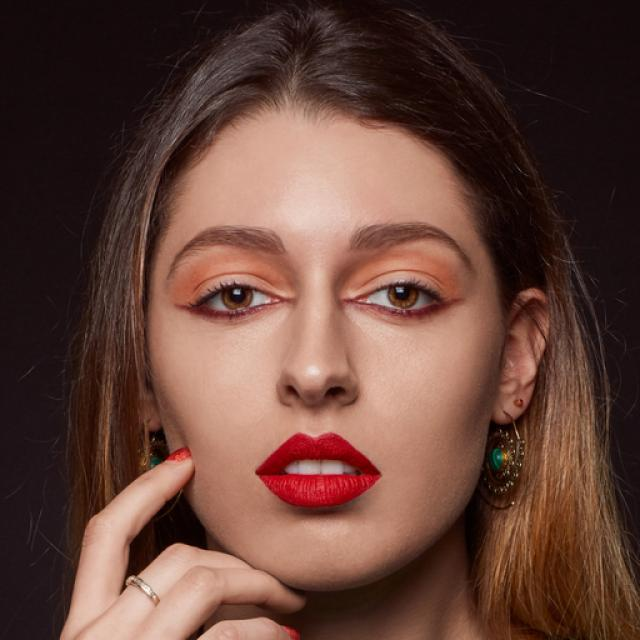neutral: (142, 98, 502, 592)
